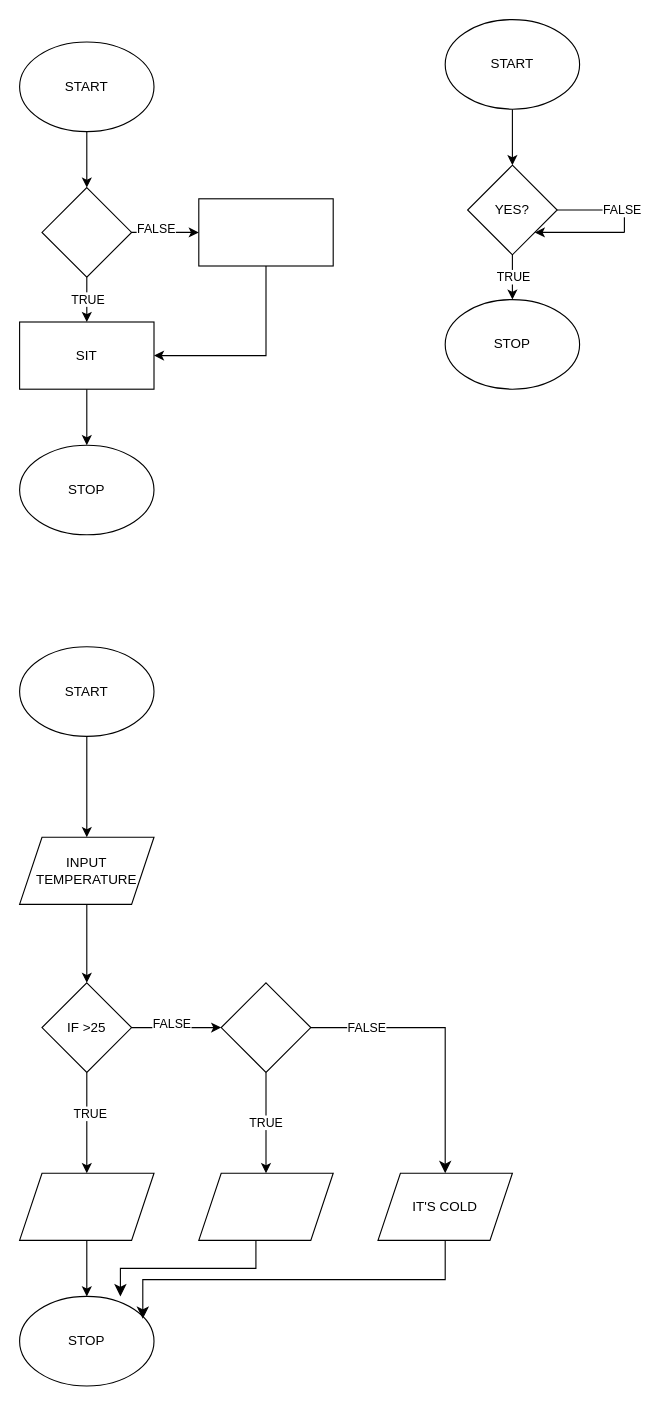
This 661x1406 diagram has some shape labels left out. The centre of each missing label's shape, as x and y in pixels:
IF >15: (265,1027)
IT'S HOT: (86,1206)
IT'S NICE: (265,1206)
LIGHTS ON: (86,231)
TURN ON: (265,232)
